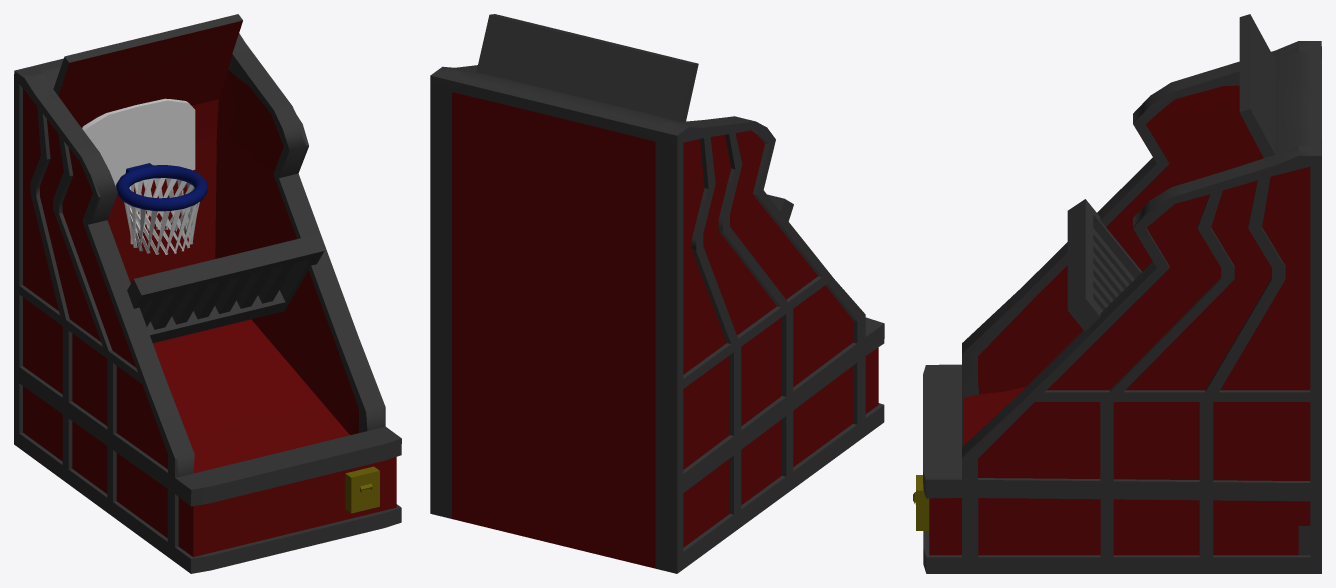
Rendered from Basketball Machine.fbx.glb.
3 renders of one model, left to right at view 1: azimuth 30°, elevation 25°; view 2: azimuth 150°, elevation 25°; view 3: azimuth 270°, elevation 25°, orthographic. The views are drawn at different scales.
Parts seen in each view (by area): view 1: pCube4.3, pCube3.6, pCube2.5, pTorus1.4, pCube5.2; view 2: pCube4.3; view 3: pCube4.3, pCube3.6, pCube5.2.
Boxes of the visible parts, x1,y1,x2,y2 form: pCube4.3: (14,14,401,573); pCube3.6: (127,234,324,343); pCube2.5: (82,98,195,187); pTorus1.4: (116,163,207,254); pCube5.2: (345,466,379,513); pCube4.3: (430,14,884,573); pCube4.3: (923,14,1321,573); pCube3.6: (1067,199,1141,331); pCube5.2: (913,475,929,530).
Bounding box in the file's own units: 3.71 × 6.8 × 5.54.
